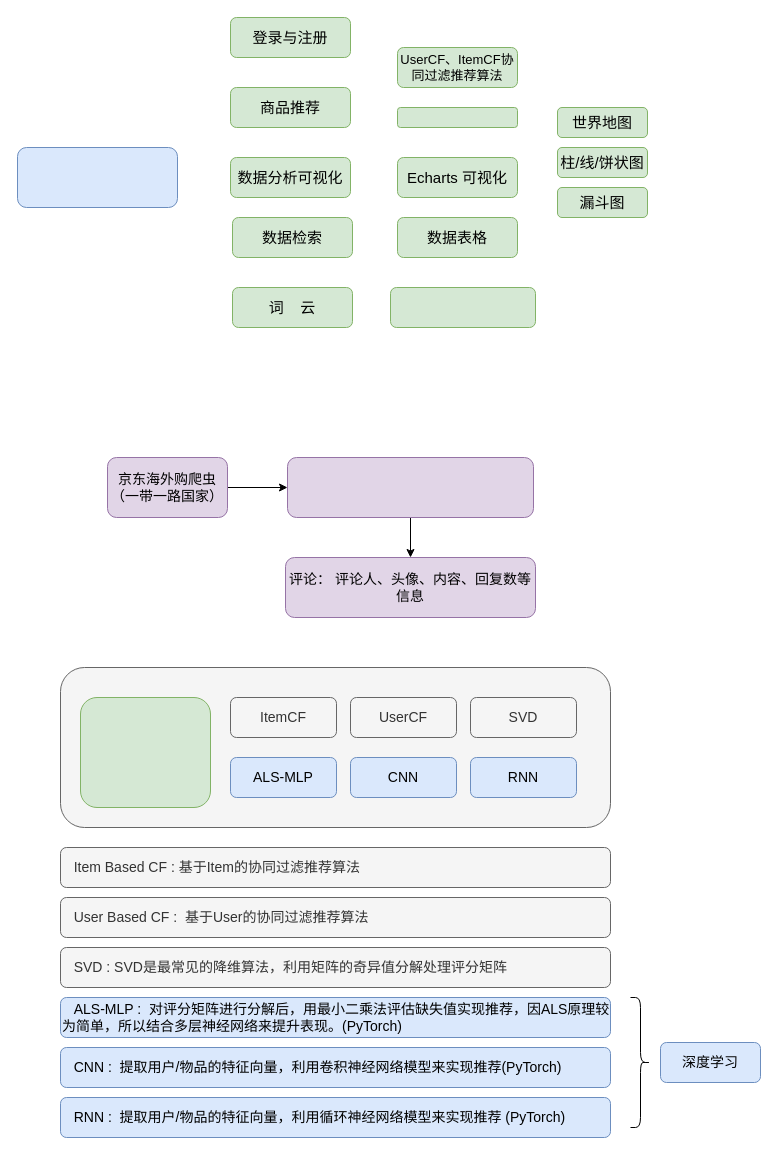
Image size: 778x1155. Some labels were removed from this diagram. The shapes that lost their labels are listed below. From the top down, each one's centre as x and y in pixels, then its label:
the point at 457,117: SVD 推荐算法
the point at 97,177: 海外购电商推荐系统 （一带一路电商大数据）
the point at 463,307: [商品评论] 词云
the point at 410,487: 商品信息： 商品的名称，图片，价格，url, 国家，商品所属的类别等信息
the point at 145,752: 推荐算法
